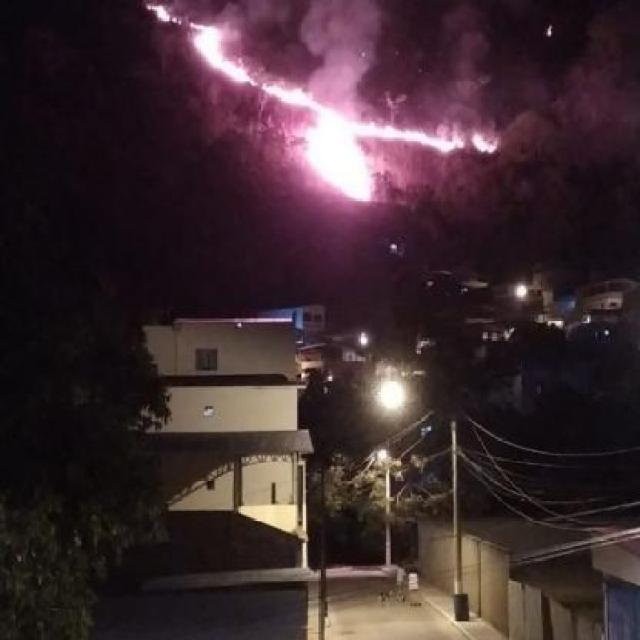Fire: (259, 75, 471, 214), (190, 20, 258, 85), (149, 3, 182, 26), (472, 130, 496, 156)
